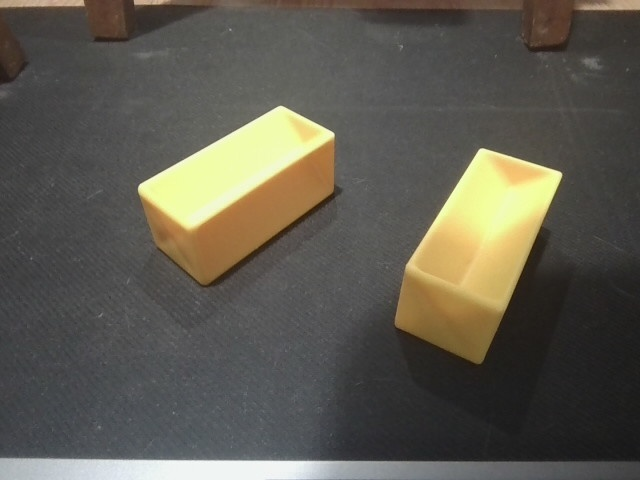YellowSample: (391, 143, 569, 368), (134, 102, 338, 290)
